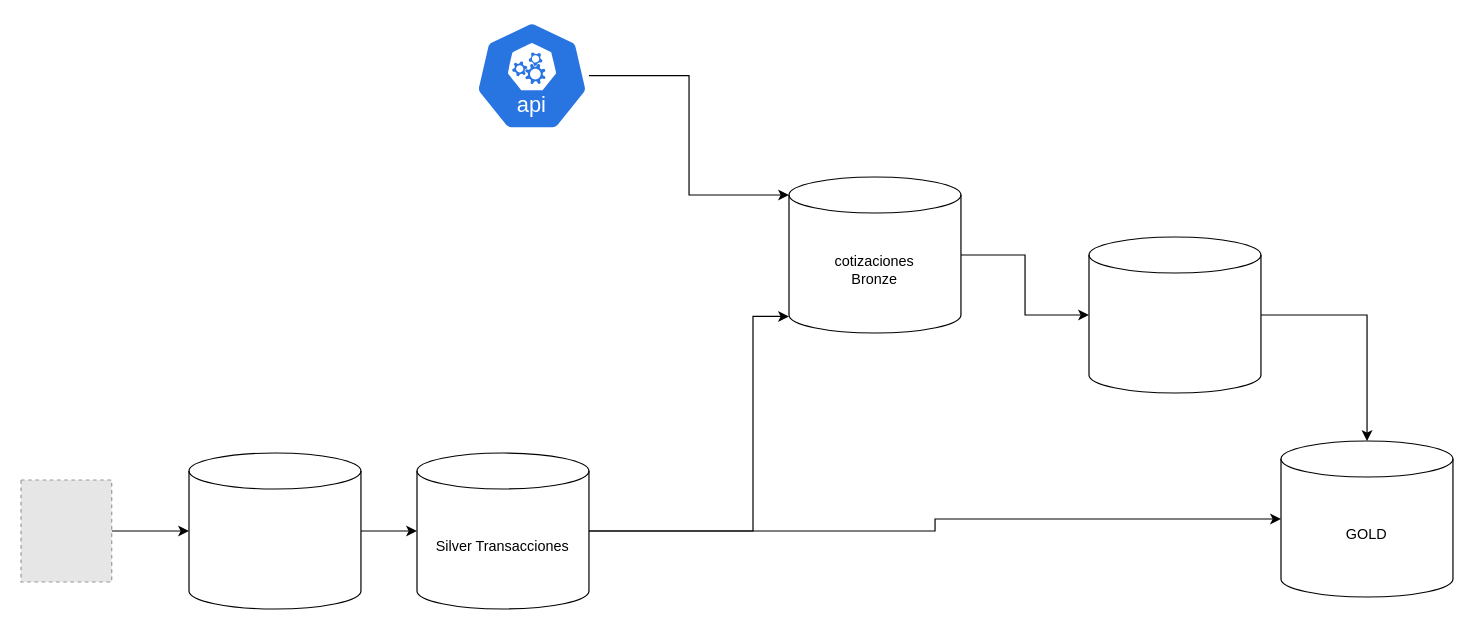
Some shapes in this 1475 by 630 pixel diagram are drawn without their labels. Grey dashed boxes stand in for pictures. Here are the shapes that lost their labels. From the top down, the centre of each, then its label:
At (1174,314): "cotizaciones Silver".
At (274,530): "Transacciones Bronze csv".
